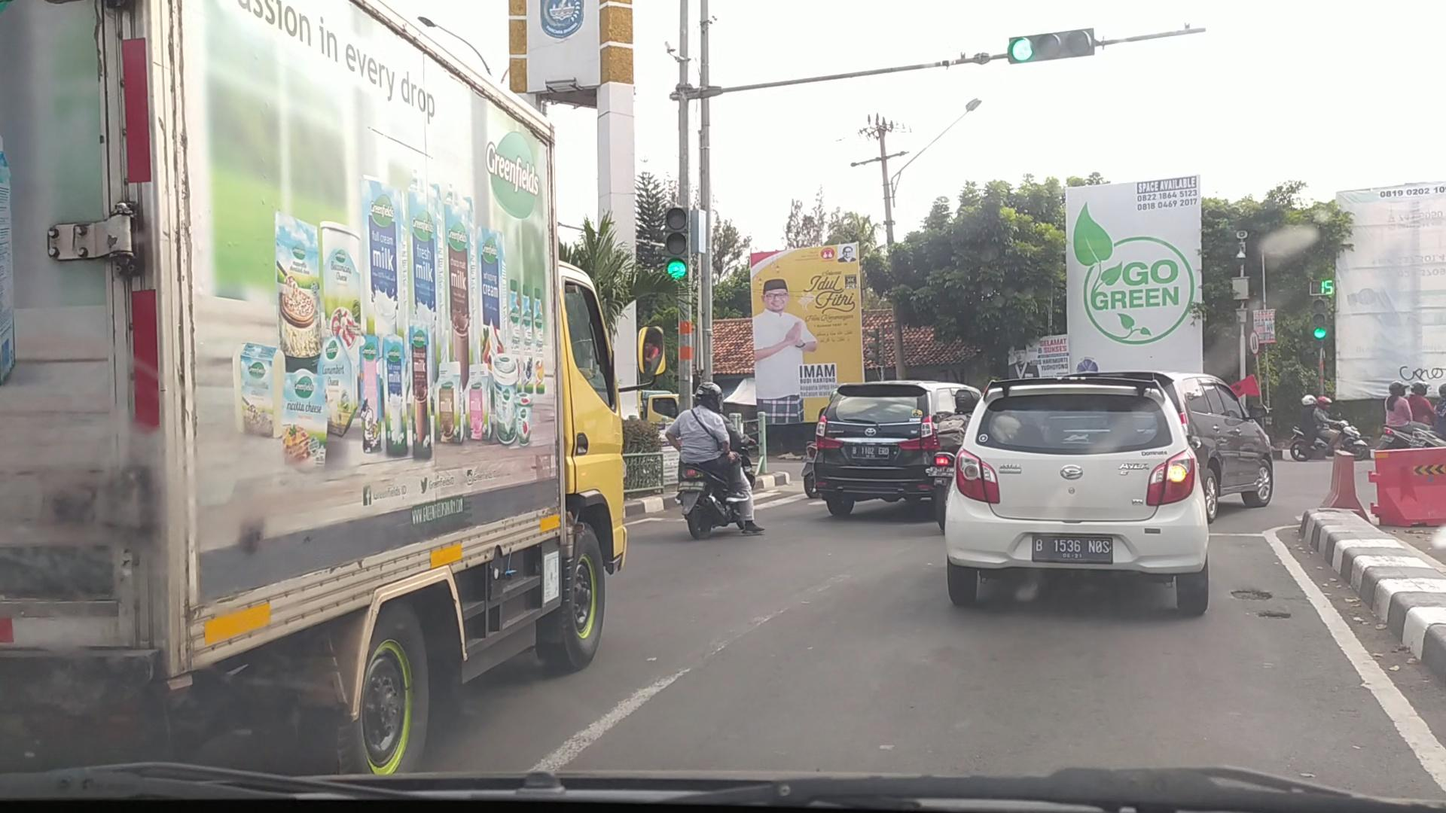pothole: (1228, 587, 1276, 603), (1258, 610, 1291, 621)
